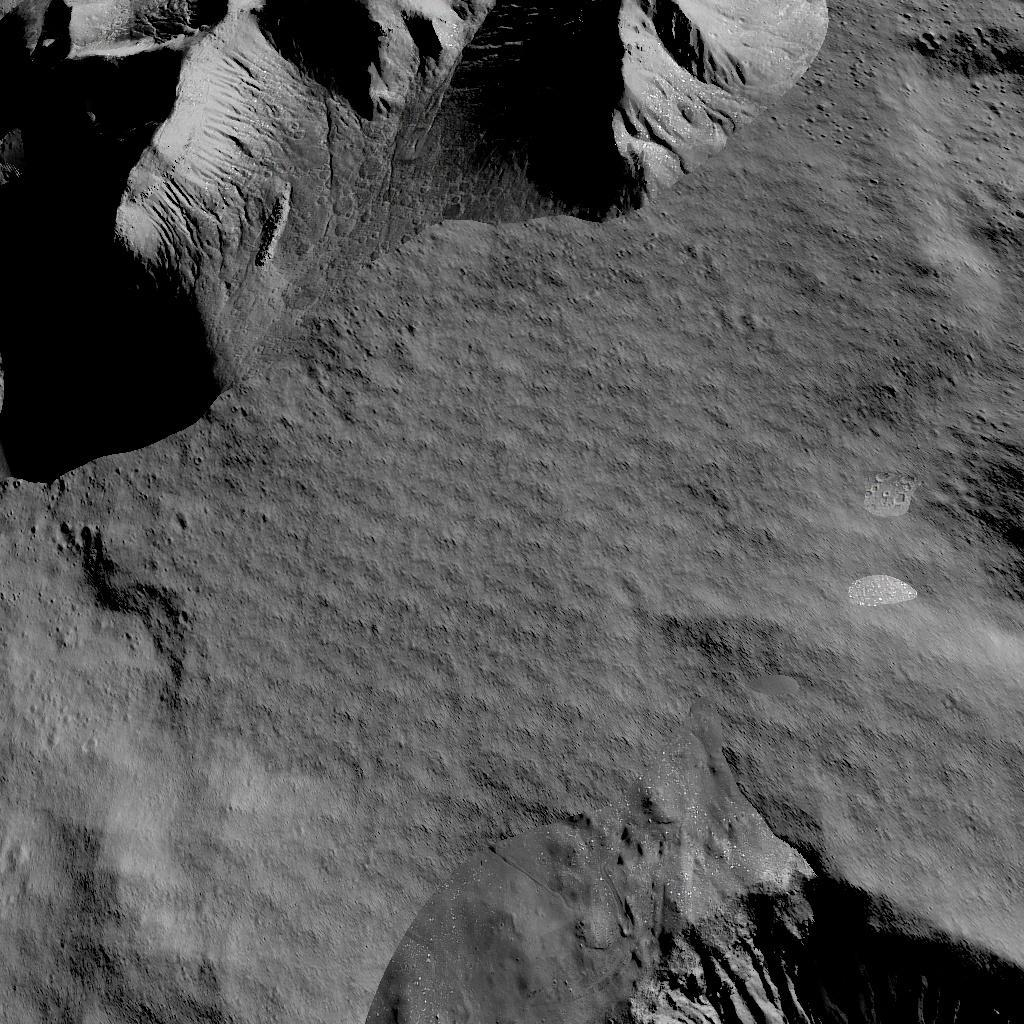Boulders: (7, 0, 838, 405)
Crater: (477, 818, 1024, 1024), (955, 438, 1024, 612), (908, 28, 952, 63)
Plan surface: (0, 490, 446, 1024), (466, 424, 932, 782), (873, 94, 1024, 386)
